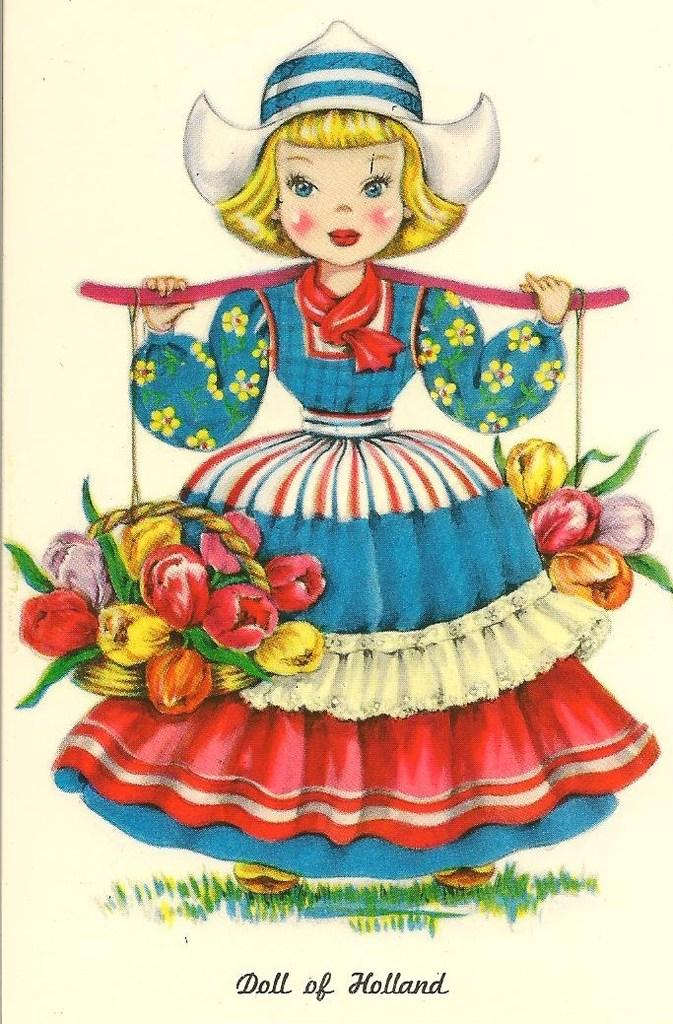Hat: (177, 17, 496, 206)
